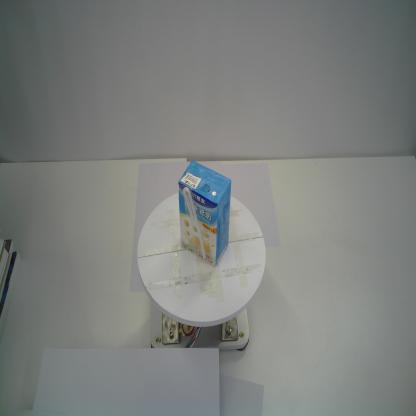Milk: (178, 159, 232, 266)
